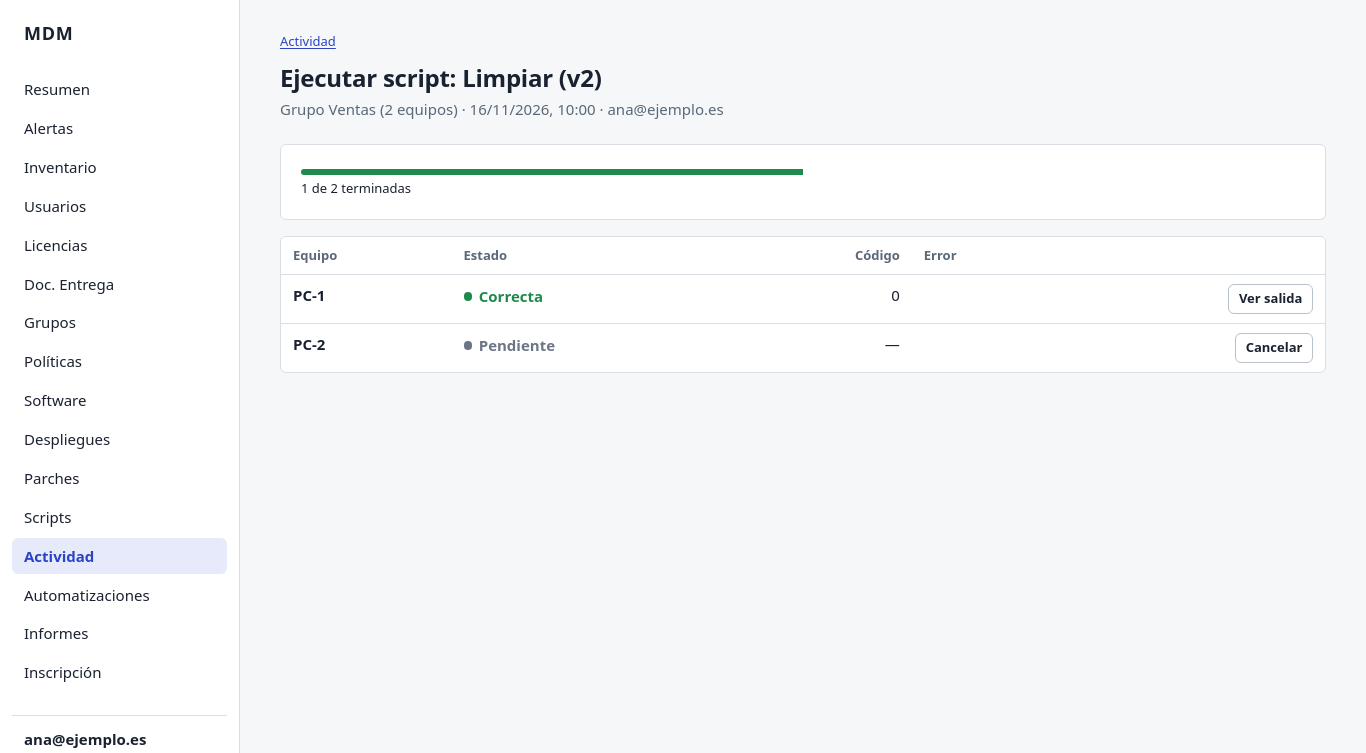
Test: Actividad › cancelar una orden pendiente la marca cancelada
This screenshot has width=1366, height=753.
What coordinates should you click on to do the following:
click the button "Cancelar"
I would click on:
 (1274, 348)
Its box is [1235, 333, 1313, 363].
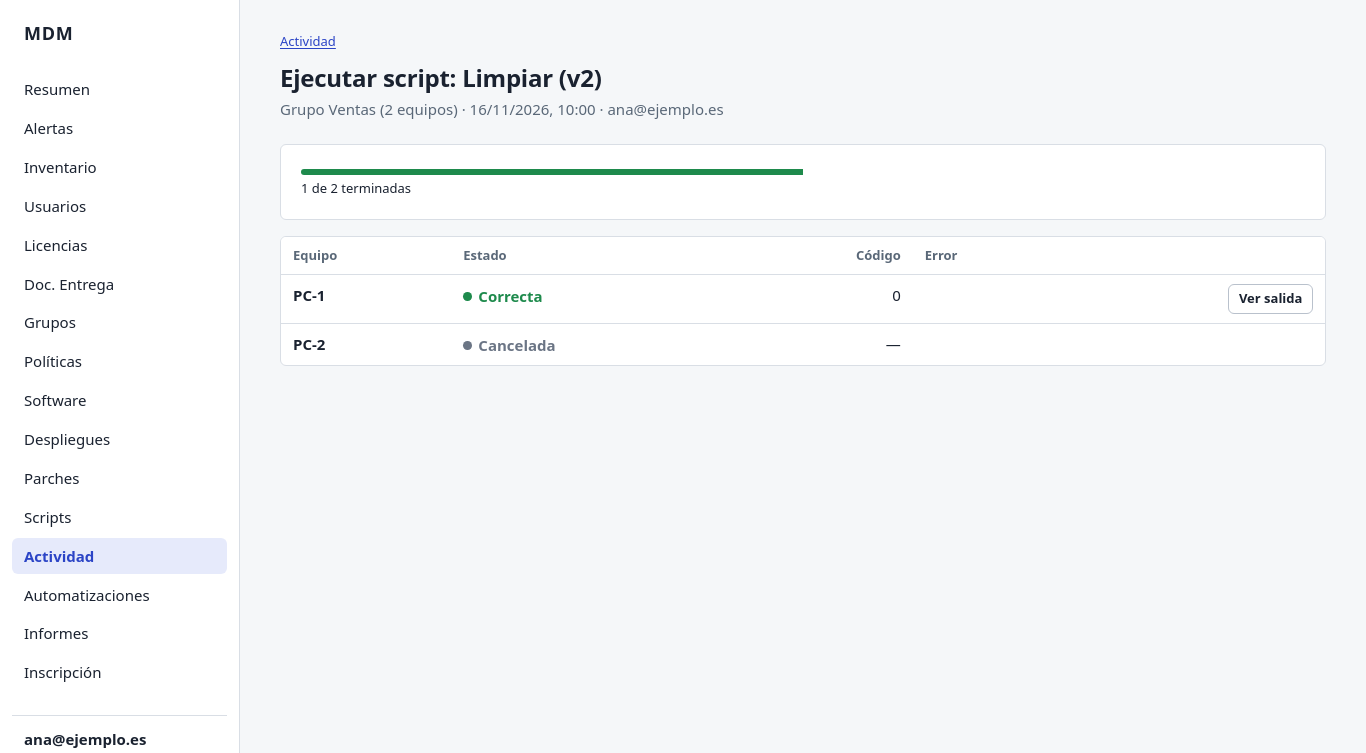
Result: the text "Cancelada" is shown at [463, 334, 556, 357]
